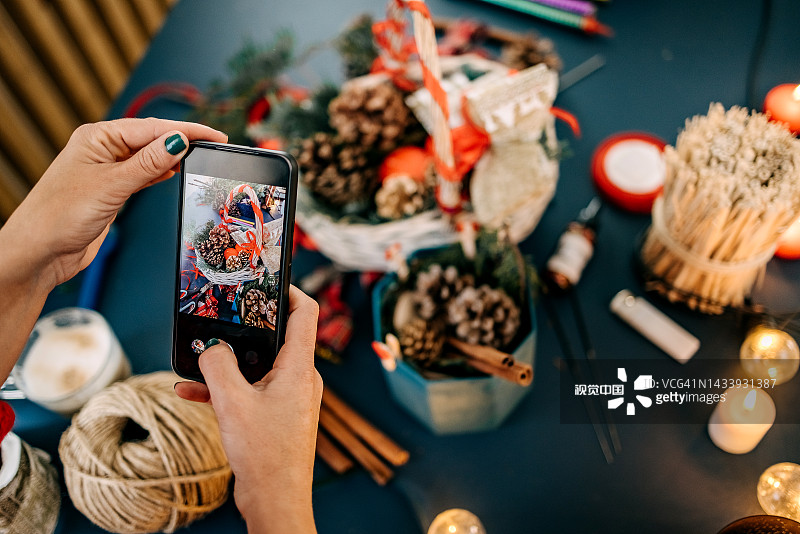taking photos: (1, 96, 374, 534)
